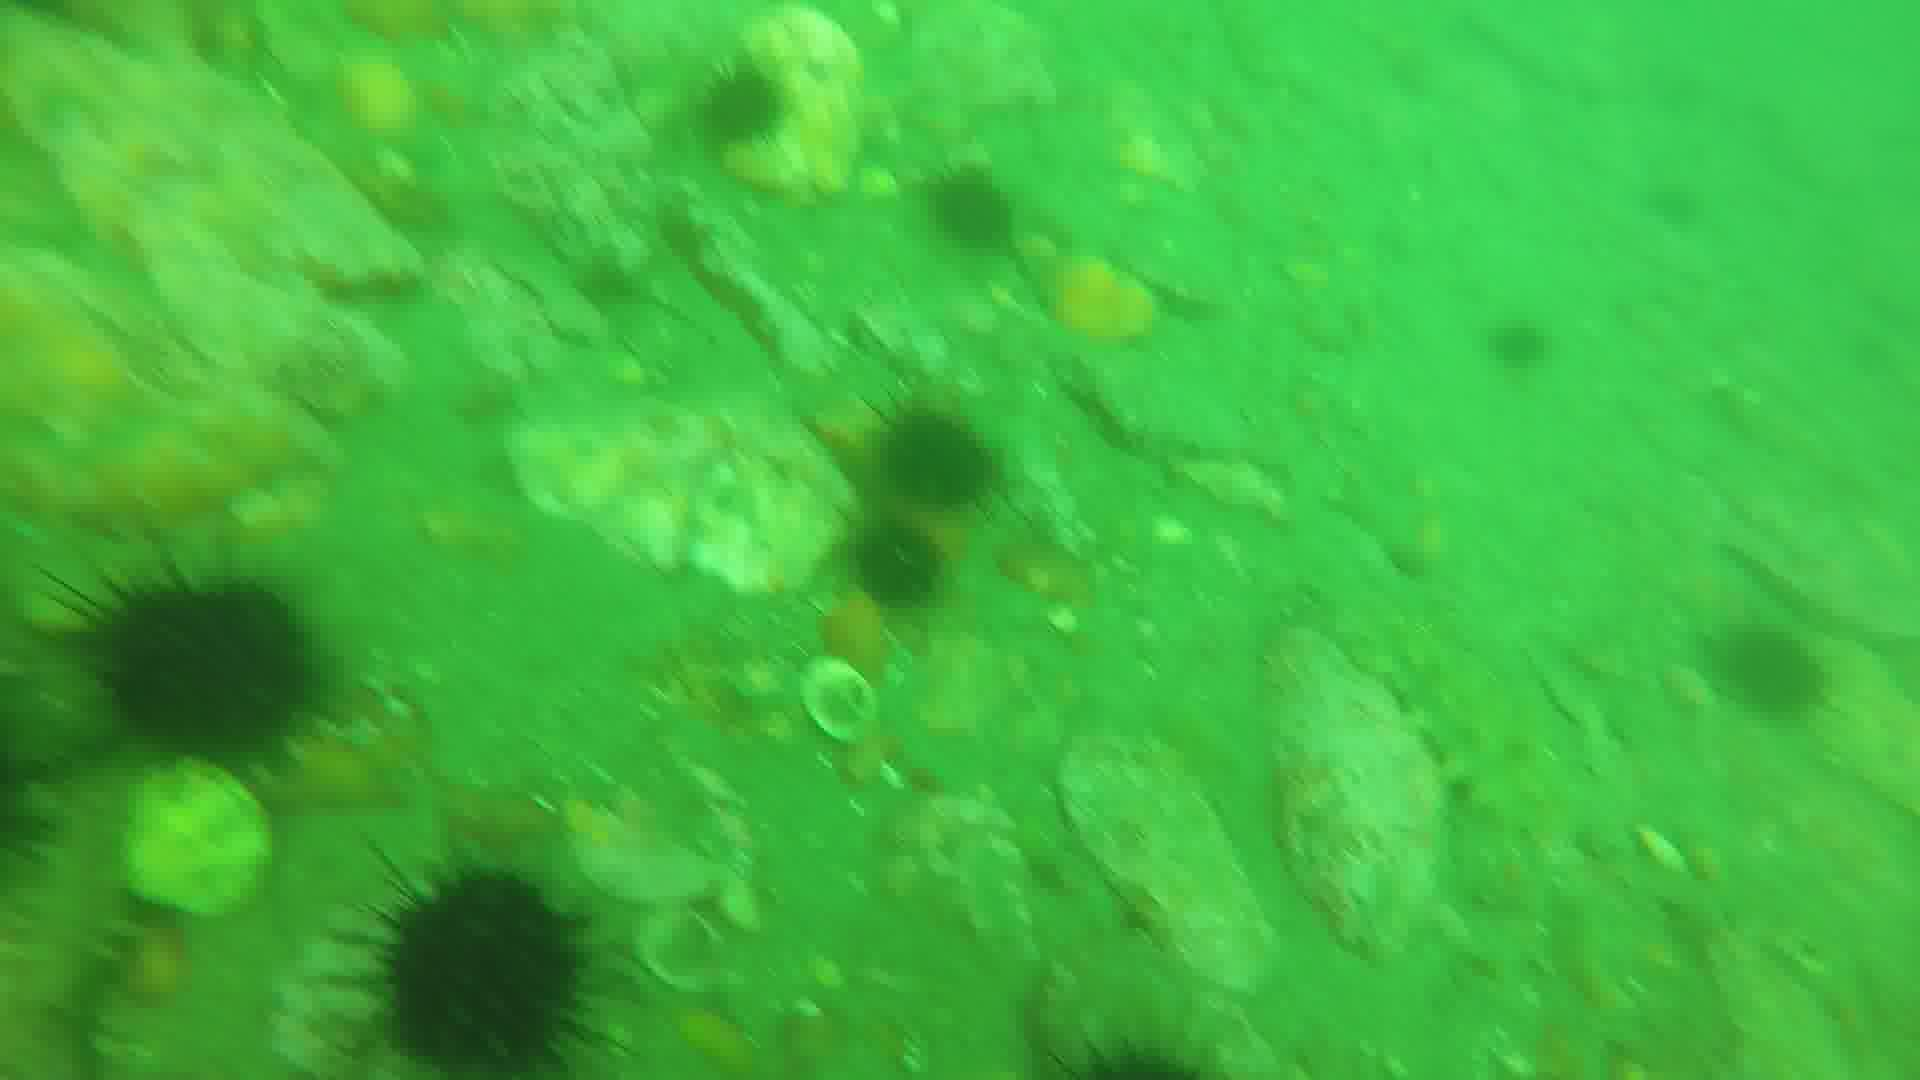echinus: (76, 553, 334, 764), (378, 858, 589, 1080), (880, 386, 1015, 524), (1734, 620, 1838, 723), (853, 512, 949, 613), (927, 160, 1015, 258), (695, 62, 787, 152), (1481, 316, 1553, 381)
holothurian: (1335, 601, 1557, 980)
scallop: (640, 898, 731, 998), (793, 654, 885, 744)
